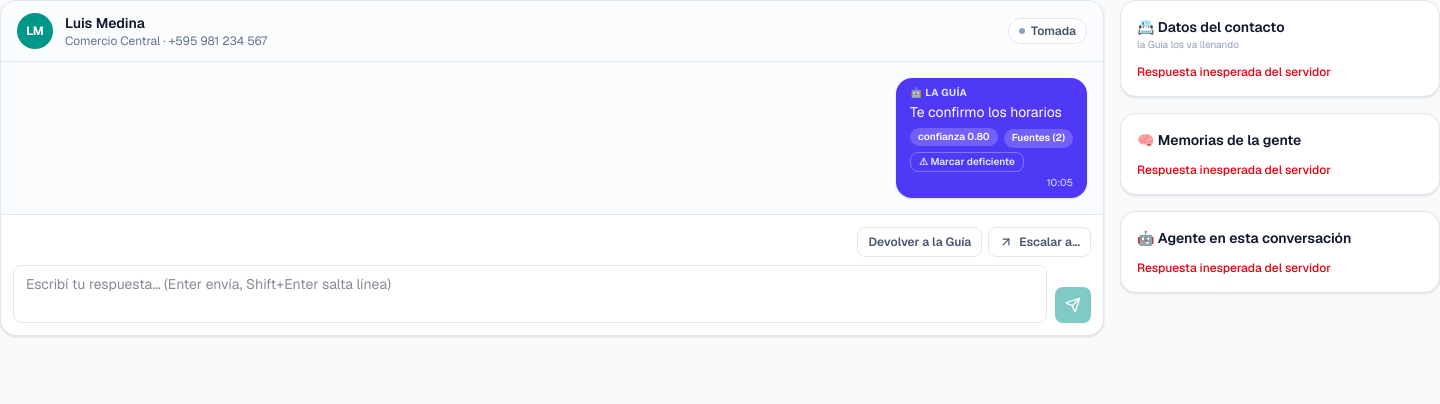
Test case: HiloConversacion calidad medible (E4·T5) › burbuja IA con fidelidad → línea «Fidelidad: 0.90» dentro del detalle de fuentes
Expected: the text "Te confirmo los horarios" is shown, [910, 102, 1073, 122]
Click the heading "Fuentes (2)" at x=1038, y=138, box [1004, 129, 1073, 148]
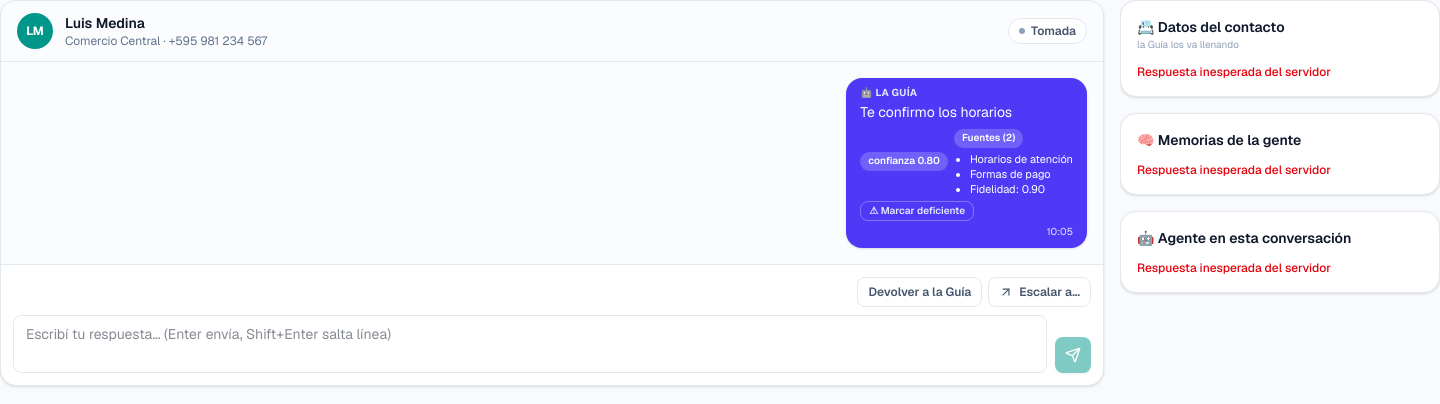
Expected: the list item "Horarios de atención" is shown, [970, 152, 1073, 167]
Expected: the list item "Fidelidad: 0.90" is shown, [970, 182, 1045, 196]
